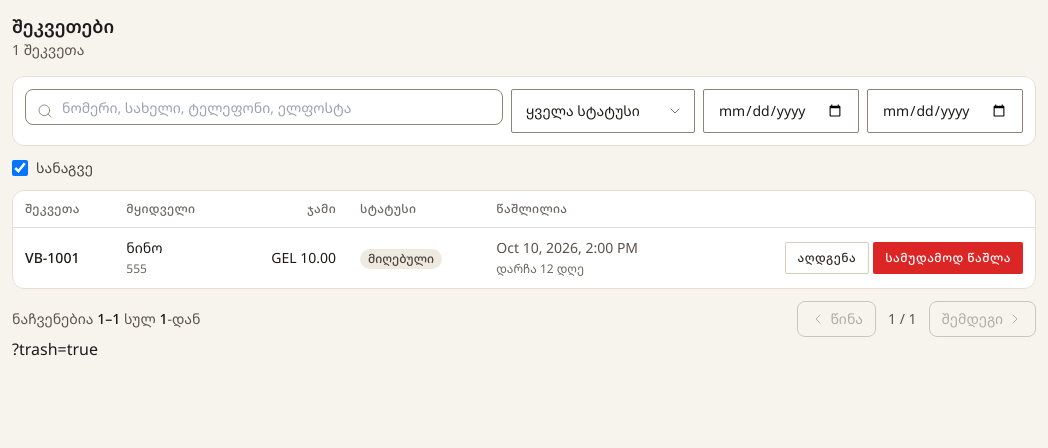
Test: OrderList row actions in the trash › restores a row and reloads the list
The width and height of the screenshot is (1048, 448).
Click the button with aria-label "VB-1001 — აღდგენა".
click(827, 258)  # box top-left (784, 242), bottom-right (869, 274)
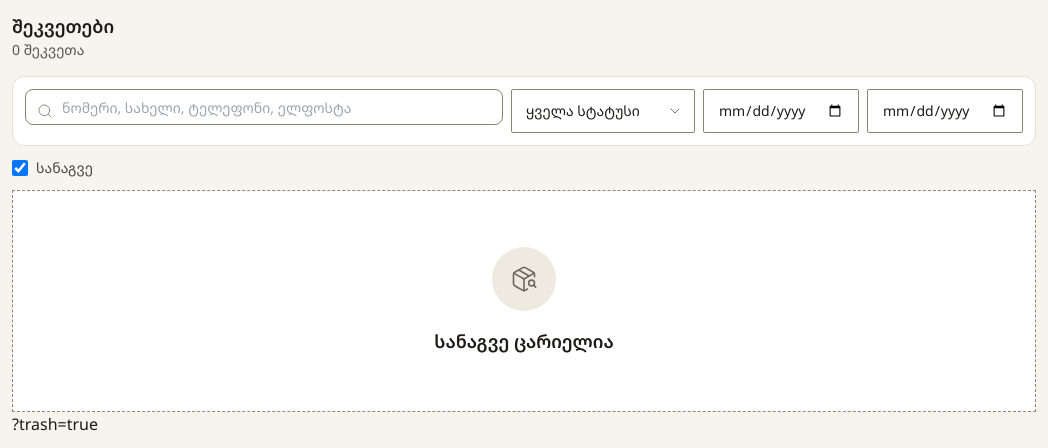
Expected: the heading "სანაგვე ცარიელია" is shown, top-left (434, 327), bottom-right (614, 355)
